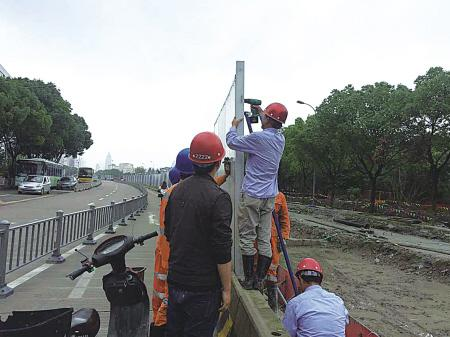helmet: (189, 131, 228, 166), (174, 149, 199, 181), (264, 103, 290, 127), (295, 258, 326, 278)
